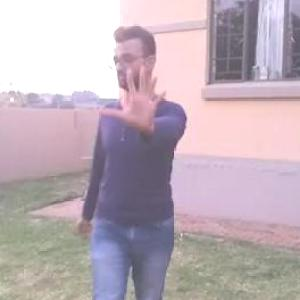follow_hand: (98, 59, 169, 135)
